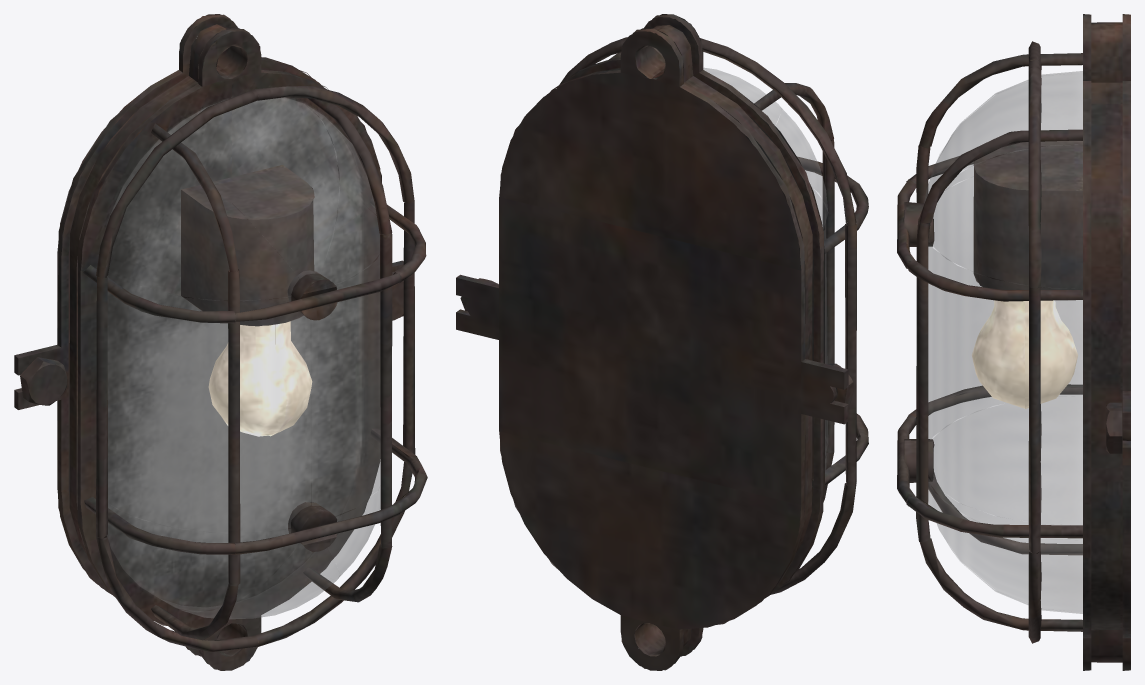
The model's file is ph_industrial_wall_lamp.glb.
3 views of the same model, side by side, from view 1: azimuth 30°, elevation 25°; view 2: azimuth 150°, elevation 25°; view 3: azimuth 270°, elevation 25° (orthographic).
Parts seen in each view (by area): view 1: industrial_wall_lamp; view 2: industrial_wall_lamp; view 3: industrial_wall_lamp.
Part boxes in pixels (x1,y1,x2,y2): industrial_wall_lamp: (14, 14, 427, 670); industrial_wall_lamp: (456, 14, 868, 670); industrial_wall_lamp: (897, 14, 1130, 670).
Size of the model in its own units: 0.2735 by 0.4299 by 0.1401.
Materials: 2 (2 with a texture image).
